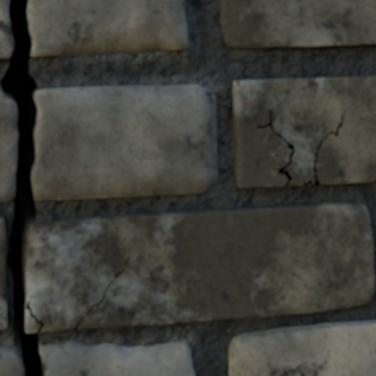brick: (26, 204, 374, 331), (233, 76, 375, 187), (229, 321, 375, 375), (221, 0, 375, 48), (0, 217, 6, 328)
broken_brick: (34, 84, 219, 201), (29, 0, 190, 58), (41, 341, 196, 375), (0, 91, 17, 203), (0, 0, 13, 59), (0, 346, 23, 375)
crack: (0, 0, 45, 375), (73, 255, 130, 330), (303, 109, 347, 186), (257, 108, 295, 187)
